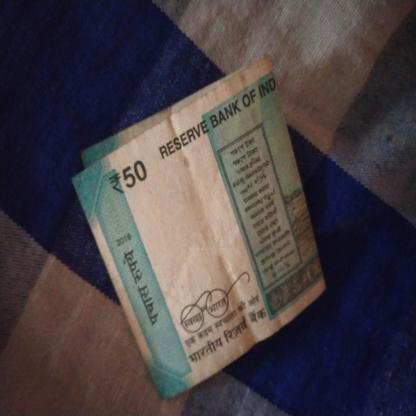New50Back: (111, 67, 298, 361)
